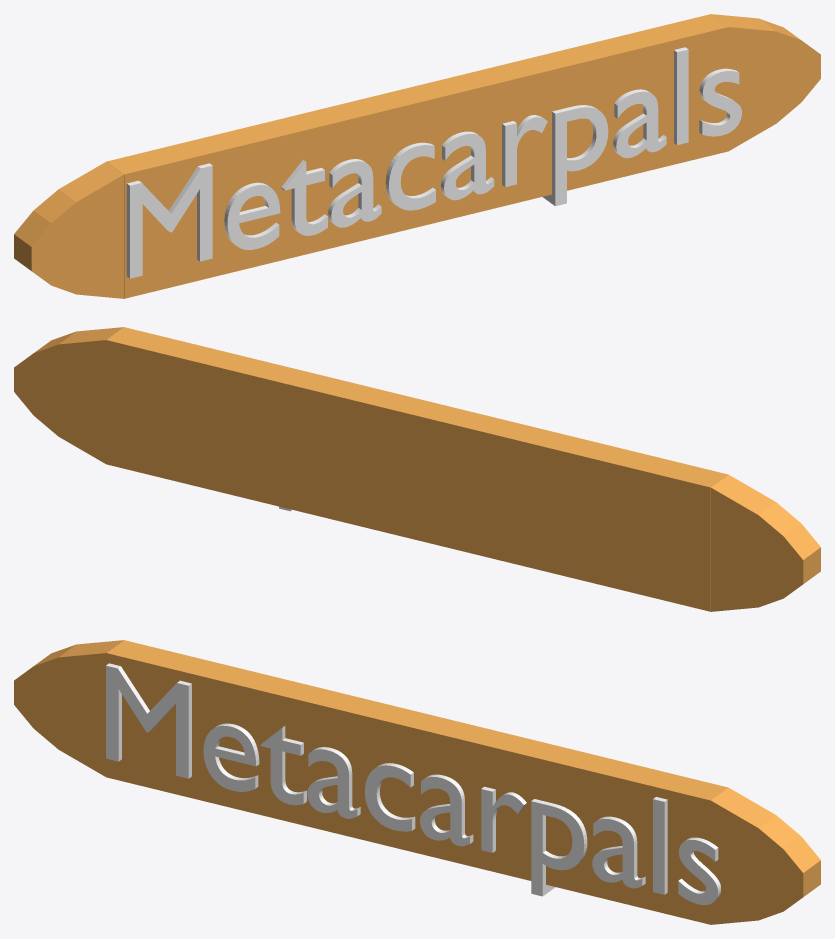
The model's file is txtMetacarpals.fbx.
3 renders of one model, top to bottom at view 1: azimuth 30°, elevation 25°; view 2: azimuth 150°, elevation 25°; view 3: azimuth 330°, elevation 25°, orthographic.
Parts seen in each view (by area): view 1: TagContainer.020, Text.020; view 2: TagContainer.020; view 3: TagContainer.020, Text.020.
Boxes of the visible parts, <box> form: TagContainer.020: <box>14,14,820,298</box>; Text.020: <box>126,47,741,278</box>; TagContainer.020: <box>14,327,820,611</box>; TagContainer.020: <box>14,640,820,924</box>; Text.020: <box>106,663,720,904</box>.
Size of the model in its own units: 274 by 44.48 by 12.58.
